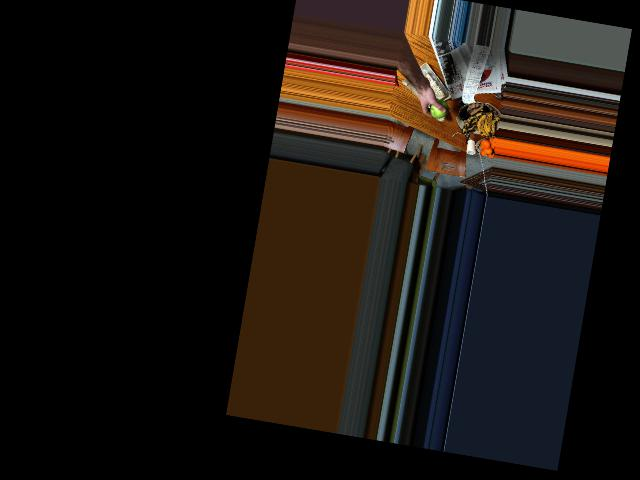apple: (427, 96, 450, 120)
